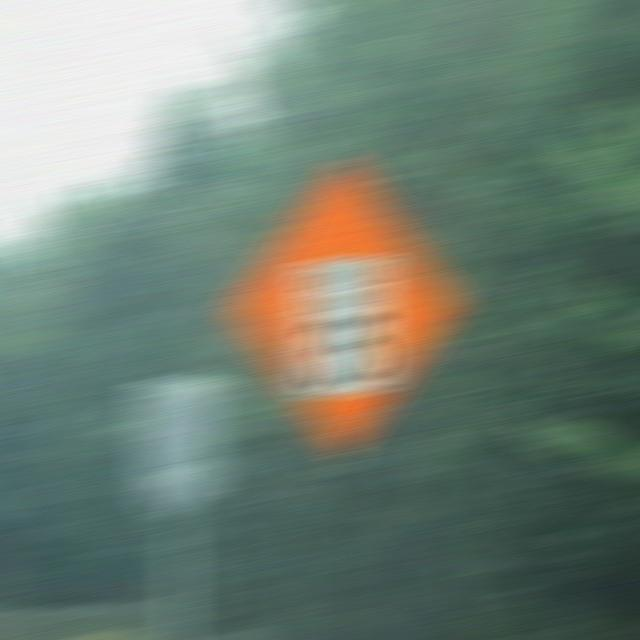speedLimit35: (296, 267, 388, 393)
